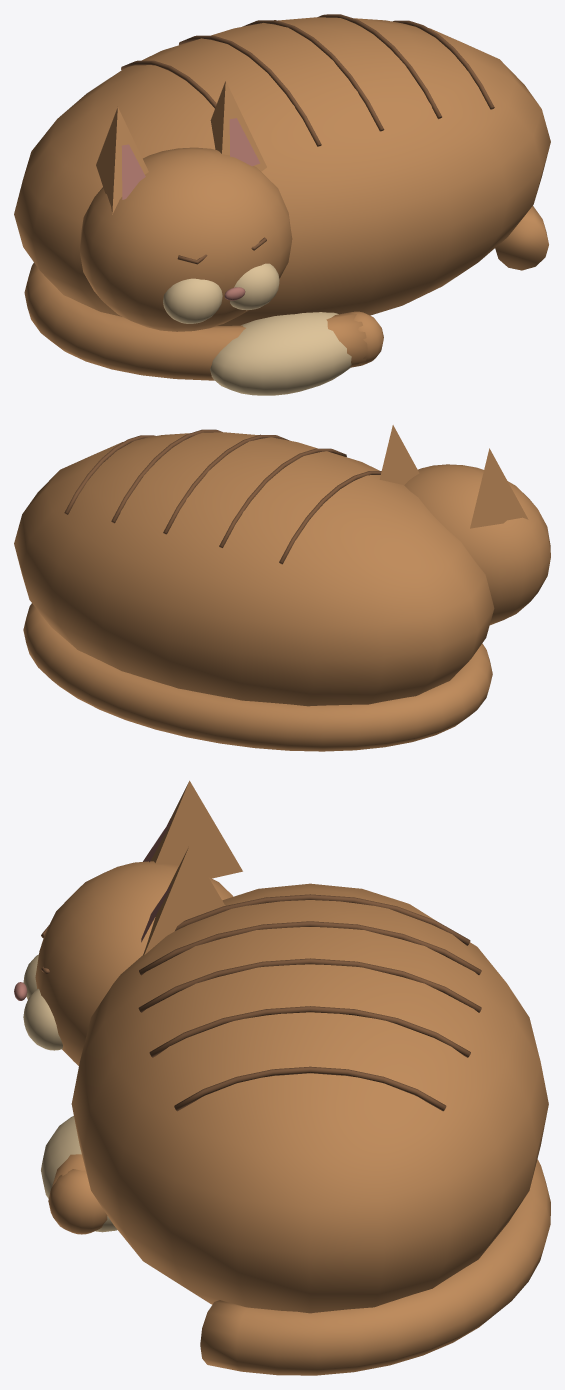
The model's file is sleeping-cat.glb.
3 renders of one model, top to bottom at view 1: azimuth 30°, elevation 25°; view 2: azimuth 150°, elevation 25°; view 3: azimuth 270°, elevation 25°, orthographic. The views are drawn at different scales.
Parts seen in each view (by area): view 1: Curled sleeping body.001, Resting head.001, Curled tail.001, Tucked forepaw.001, Cream cheek.002, Pointed ear.002, Pointed ear.003, Cream cheek.003, Tabby back stripe.006, Tabby back stripe.007, Rounded tail tip, Tabby back stripe.008 (+4 smaller); view 2: Curled sleeping body.001, Curled tail.001, Resting head.001, Pointed ear.002, Pointed ear.003, Tabby back stripe.006, Tabby back stripe.007, Tabby back stripe.005, Tabby back stripe.008, Tabby back stripe.009; view 3: Curled sleeping body.001, Curled tail.001, Resting head.001, Pointed ear.002, Pointed ear.003, Rounded tail tip, Tabby back stripe.008, Tabby back stripe.007, Tabby back stripe.006, Tabby back stripe.009, Tucked forepaw.001, Tabby back stripe.005 (+1 smaller).
Boxes of the visible parts, x1,y1,x2,y2 form: Curled sleeping body.001: [14, 17, 550, 325]; Resting head.001: [79, 147, 292, 331]; Curled tail.001: [24, 206, 548, 380]; Tucked forepaw.001: [210, 312, 351, 395]; Cream cheek.002: [163, 278, 222, 323]; Pointed ear.002: [96, 107, 148, 214]; Pointed ear.003: [210, 81, 266, 171]; Cream cheek.003: [230, 263, 279, 310]; Tabby back stripe.006: [179, 35, 321, 146]; Tabby back stripe.007: [242, 20, 384, 131]; Rounded tail tip: [348, 311, 383, 364]; Tabby back stripe.008: [317, 14, 441, 119]; Curled sleeping body.001: [14, 432, 494, 706]; Curled tail.001: [23, 603, 492, 751]; Resting head.001: [404, 464, 550, 625]; Pointed ear.002: [470, 448, 528, 528]; Pointed ear.003: [379, 425, 419, 484]; Tabby back stripe.006: [219, 448, 346, 547]; Tabby back stripe.007: [163, 434, 289, 534]; Tabby back stripe.005: [279, 471, 381, 564]; Tabby back stripe.008: [111, 429, 222, 523]; Tabby back stripe.009: [64, 435, 155, 514]; Curled sleeping body.001: [71, 883, 548, 1313]; Curled tail.001: [52, 1154, 550, 1375]; Resting head.001: [35, 861, 233, 1065]; Pointed ear.002: [151, 780, 242, 878]; Pointed ear.003: [143, 845, 225, 955]; Rounded tail tip: [48, 1169, 107, 1234]; Tabby back stripe.008: [149, 1006, 470, 1057]; Tabby back stripe.007: [138, 958, 481, 1012]; Tabby back stripe.006: [139, 921, 481, 975]; Tabby back stripe.009: [174, 1066, 446, 1111]; Tucked forepaw.001: [41, 1116, 117, 1232]; Tabby back stripe.005: [175, 894, 470, 945].
Bounding box in the file's own units: 0.537 × 0.294 × 0.4006.
